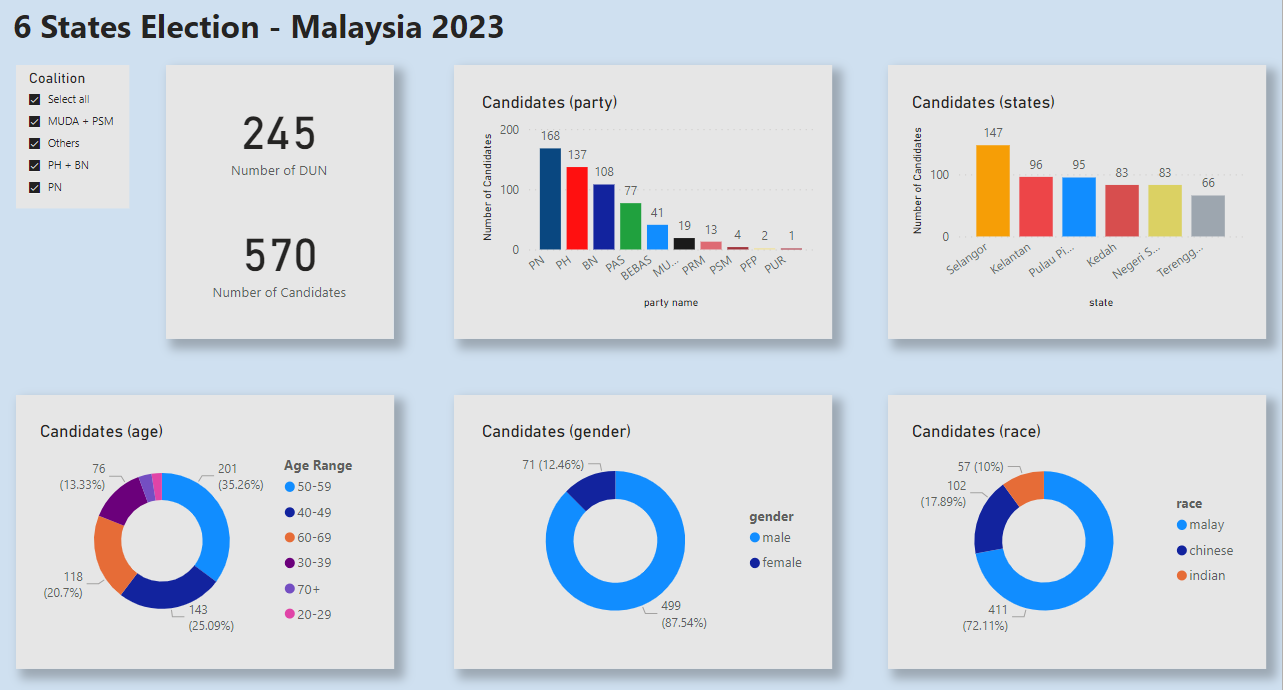

This screenshot's page, from the dashboard's own definition file:
{"tool":"powerbi","page":{"name":"PRN 2023","canvas":[1280,720],"ordinal":0},"visuals":[{"type":"shape","box":[167.6,76.3,227,273.1],"z":0},{"type":"shape","box":[887.6,404.3,376.8,273.1],"z":1000},{"type":"shape","box":[454.9,404.3,376.8,273.1],"z":2000},{"type":"shape","box":[17.7,404.3,376.8,273.1],"z":3000},{"type":"shape","box":[887.6,76.3,376.8,273.1],"z":4000},{"type":"shape","box":[454.9,76.3,376.8,273.1],"z":5000},{"type":"donutChart","title":"Candidates (race)","fields":{"Category":["candidates_prn15.ethnicity"],"Y":["candidates_prn15.Number of Candidates"]},"box":[906.3,430.7,340.3,220.3],"z":6000},{"type":"donutChart","title":"Candidates (gender)","fields":{"Category":["candidates_prn15.sex"],"Y":["Measure.Candidates (gender)"]},"box":[477.3,430.7,340.3,220.3],"z":7000},{"type":"clusteredColumnChart","title":"Candidates (states)","fields":{"Category":["candidates_prn15.state"],"Y":["Measure.Candidates (states)"]},"box":[906.3,103,340.3,220.3],"z":8000},{"type":"clusteredColumnChart","title":"Candidates (party)","fields":{"Category":["candidates_prn15.acronym"],"Y":["Measure.Candidates (party)"]},"box":[477.3,103,340.3,220.3],"z":9000},{"type":"card","fields":{"Values":["Measure.Number of Dun"]},"box":[190.6,102.9,180,90.4],"z":10000},{"type":"donutChart","title":"Candidates (age)","fields":{"Category":["candidates_prn15.Age Range"],"Y":["Measure.Candidates (age)"]},"box":[36.7,430.7,340.3,220.3],"z":11000},{"type":"slicer","fields":{"Values":["candidates_prn15.Coalition"]},"box":[17.7,76.3,112.6,142.8],"z":12000},{"type":"textbox","box":[9.9,9,559.7,67.2],"z":13000},{"type":"card","fields":{"Values":["Measure.Total_Candidates"]},"box":[190.6,224.3,180,90.4],"z":14000}]}

Visuals, with their boxes on the page's 1280x720 design canvas (x1, y1, x2, y2). These are canvas units, not pixel positions in the 1283x690 screenshot, which may show the page scaled, cropped or inside an application window:
shape: 168,76,395,349
shape: 888,404,1264,677
shape: 455,404,832,677
shape: 18,404,394,677
shape: 888,76,1264,349
shape: 455,76,832,349
"Candidates (race)" donutChart: 906,431,1247,651
"Candidates (gender)" donutChart: 477,431,818,651
"Candidates (states)" clusteredColumnChart: 906,103,1247,323
"Candidates (party)" clusteredColumnChart: 477,103,818,323
card - Measure.Number of Dun: 191,103,371,193
"Candidates (age)" donutChart: 37,431,377,651
slicer - candidates_prn15.Coalition: 18,76,130,219
textbox: 10,9,570,76
card - Measure.Total_Candidates: 191,224,371,315
